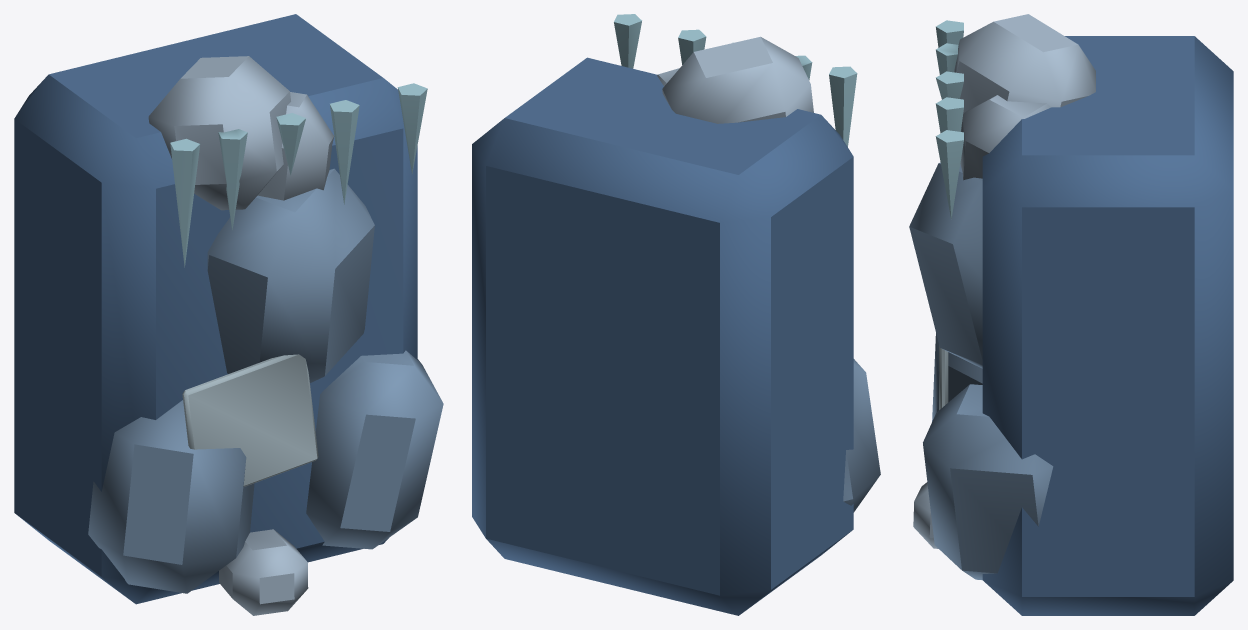
The model's file is cv_eis_wall_2.glb.
3 renders of one model, left to right at view 1: azimuth 30°, elevation 25°; view 2: azimuth 150°, elevation 25°; view 3: azimuth 270°, elevation 25°, orthographic. The views are drawn at different scales.
Parts seen in each view (by area): view 1: body; view 2: body; view 3: body.
Part boxes in pixels (left/top/right/bottom): body: left=14, top=14, right=443, bottom=615; body: left=472, top=14, right=880, bottom=615; body: left=909, top=14, right=1233, bottom=615.
Bounding box in the file's own units: 2.42 × 3.62 × 2.07.
